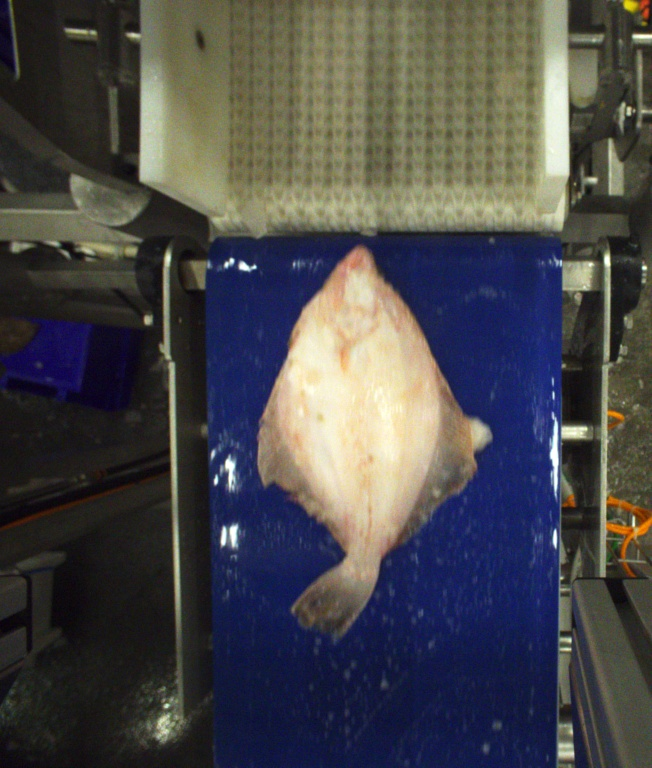PLE: (258, 247, 479, 646)
